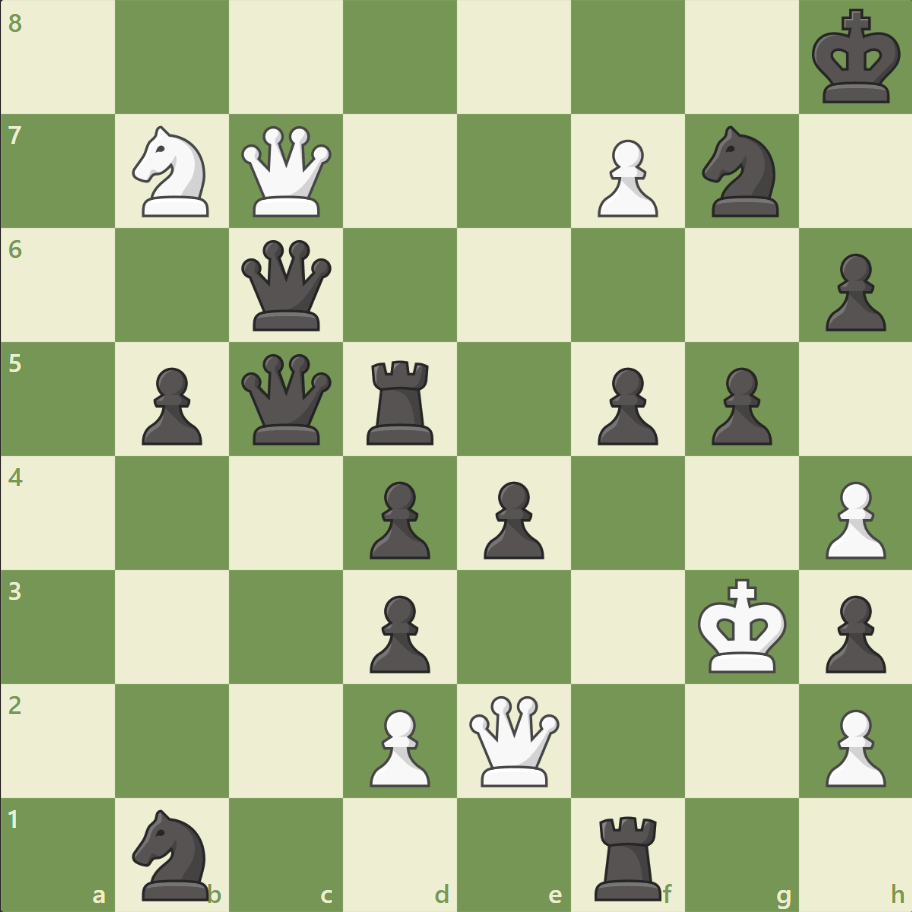K: (692, 571, 792, 679)
N: (124, 121, 222, 223)
P: (588, 132, 662, 223), (815, 473, 889, 564), (361, 700, 435, 791), (815, 700, 889, 791)
Q: (237, 122, 336, 222), (464, 690, 563, 789)
k: (806, 4, 906, 112)
n: (124, 802, 222, 904), (692, 121, 789, 223)
p: (133, 359, 208, 450), (701, 359, 776, 450), (474, 473, 549, 564), (815, 246, 889, 337), (588, 359, 662, 450), (361, 473, 435, 564), (361, 586, 435, 677), (815, 586, 889, 677)
q: (237, 349, 336, 449), (237, 236, 336, 335)
r: (587, 806, 670, 904), (360, 352, 442, 449)
